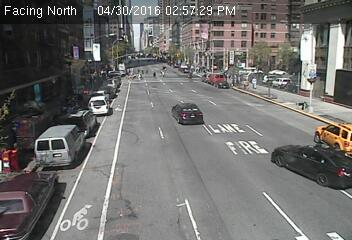neg: (174, 98, 203, 137), (293, 121, 321, 158), (92, 72, 120, 109), (68, 183, 94, 218), (156, 162, 182, 196), (265, 166, 289, 198), (204, 43, 226, 73), (39, 85, 61, 114), (81, 132, 102, 160), (212, 119, 233, 146), (191, 199, 211, 225), (296, 85, 313, 109), (135, 126, 152, 149), (49, 45, 65, 67), (234, 57, 249, 78), (126, 42, 141, 63)
